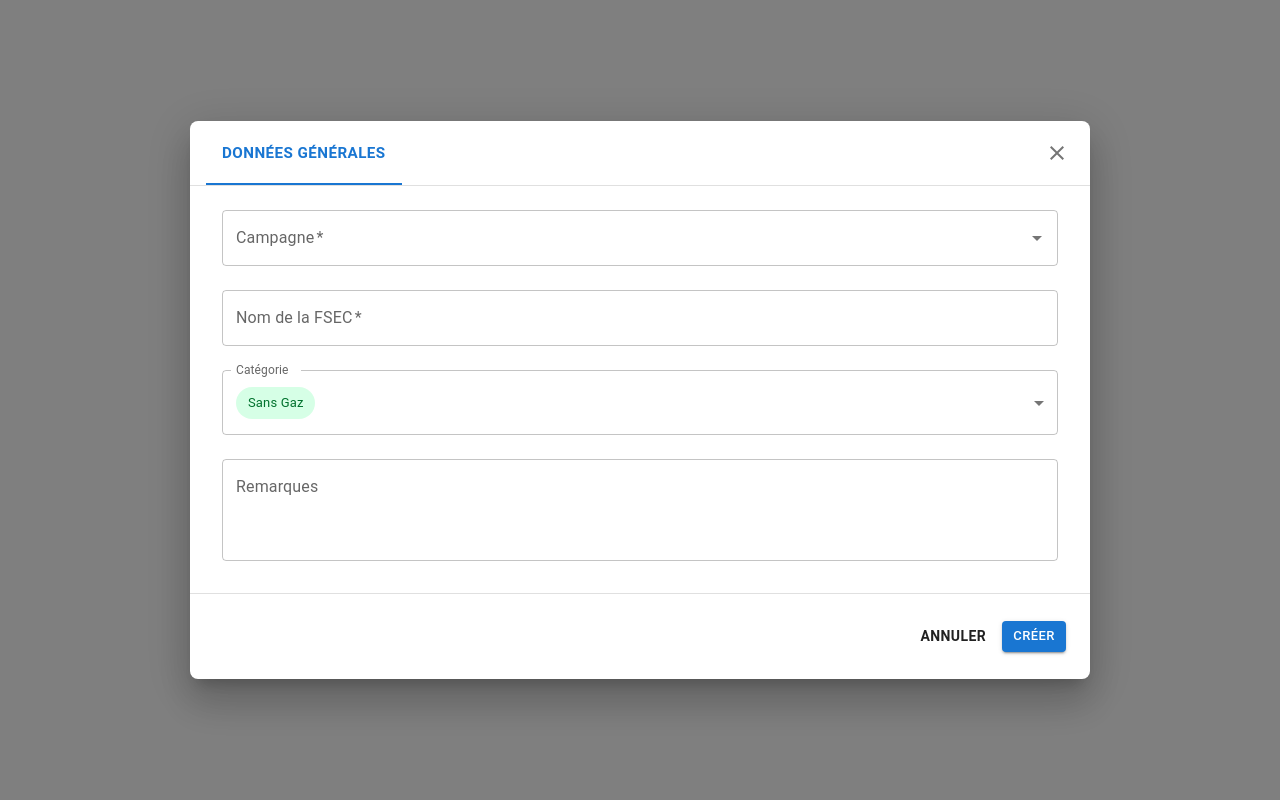
CreateFsecModal › Category Selection › should change category via Select dropdown
Step 1. Click the dropdown labelled "Sans Gaz" → (276, 403), box [236,387,316,419]
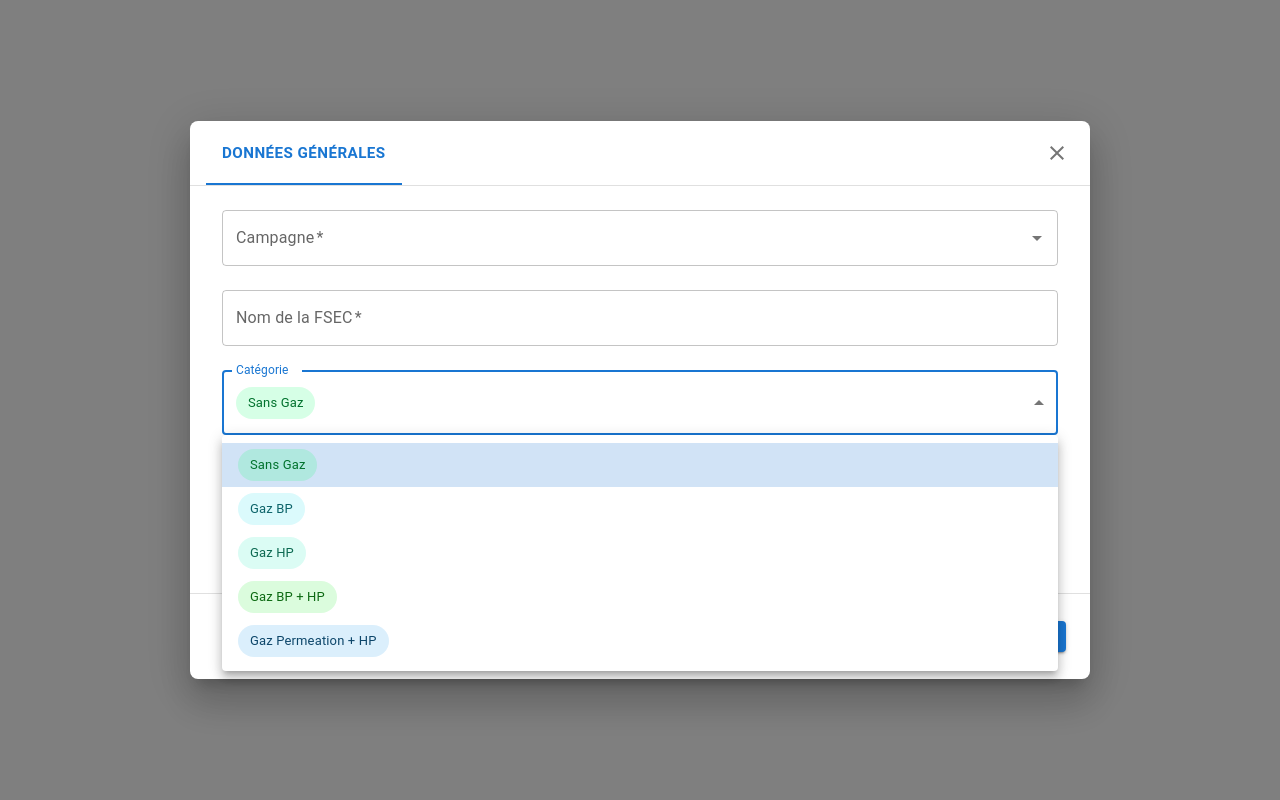
Step 2. Click the option "Gaz BP" → (271, 509), box [238,493,305,525]
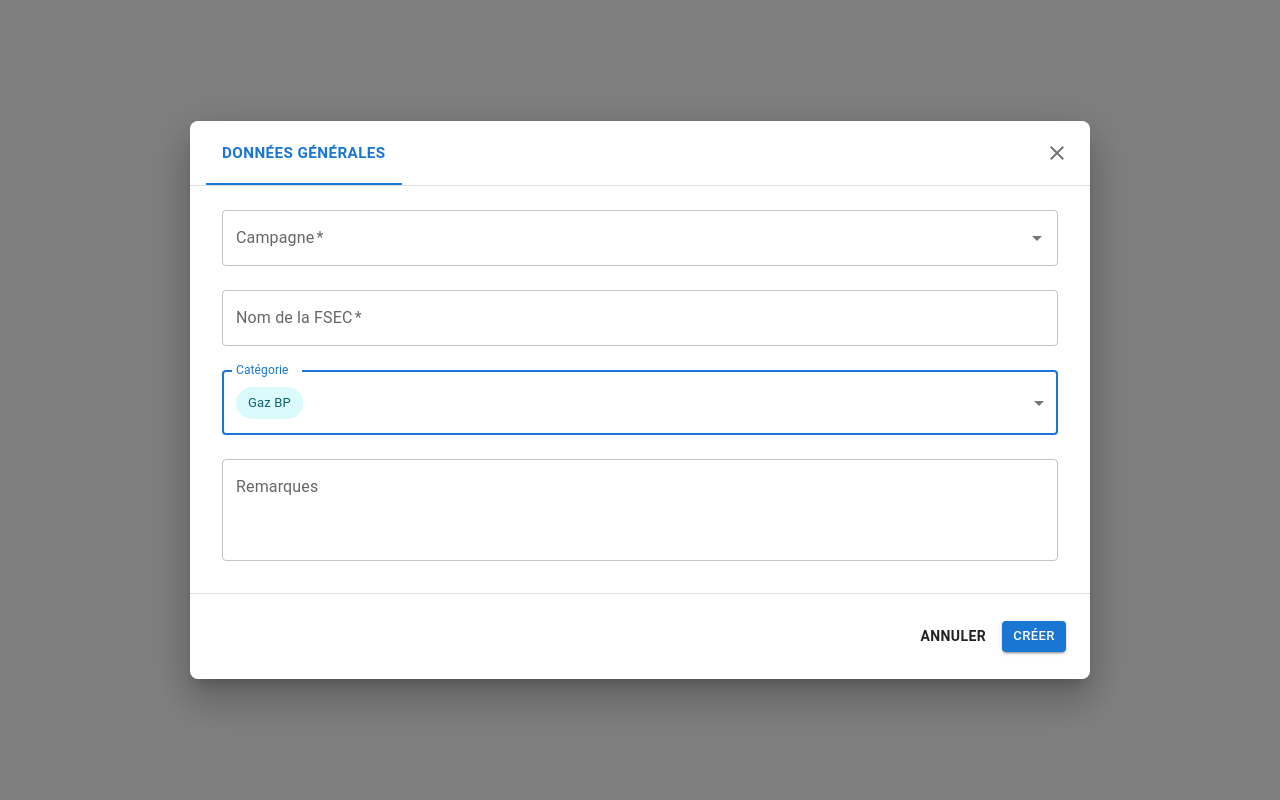
Expected: the dropdown labelled "Gaz BP" is shown, [236,387,303,419]
